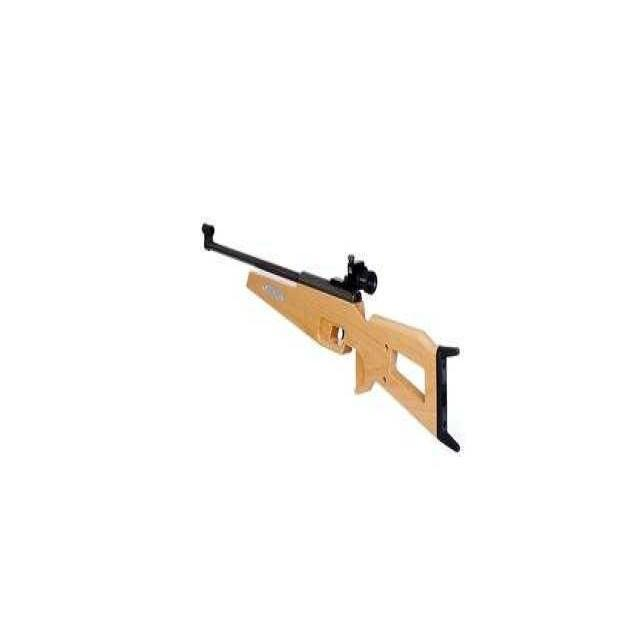weapon: (194, 201, 473, 472)
